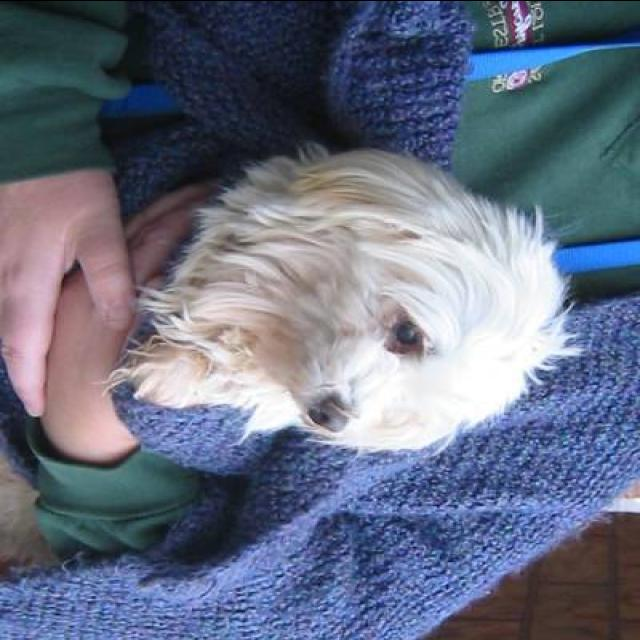dog: (107, 120, 582, 474)
